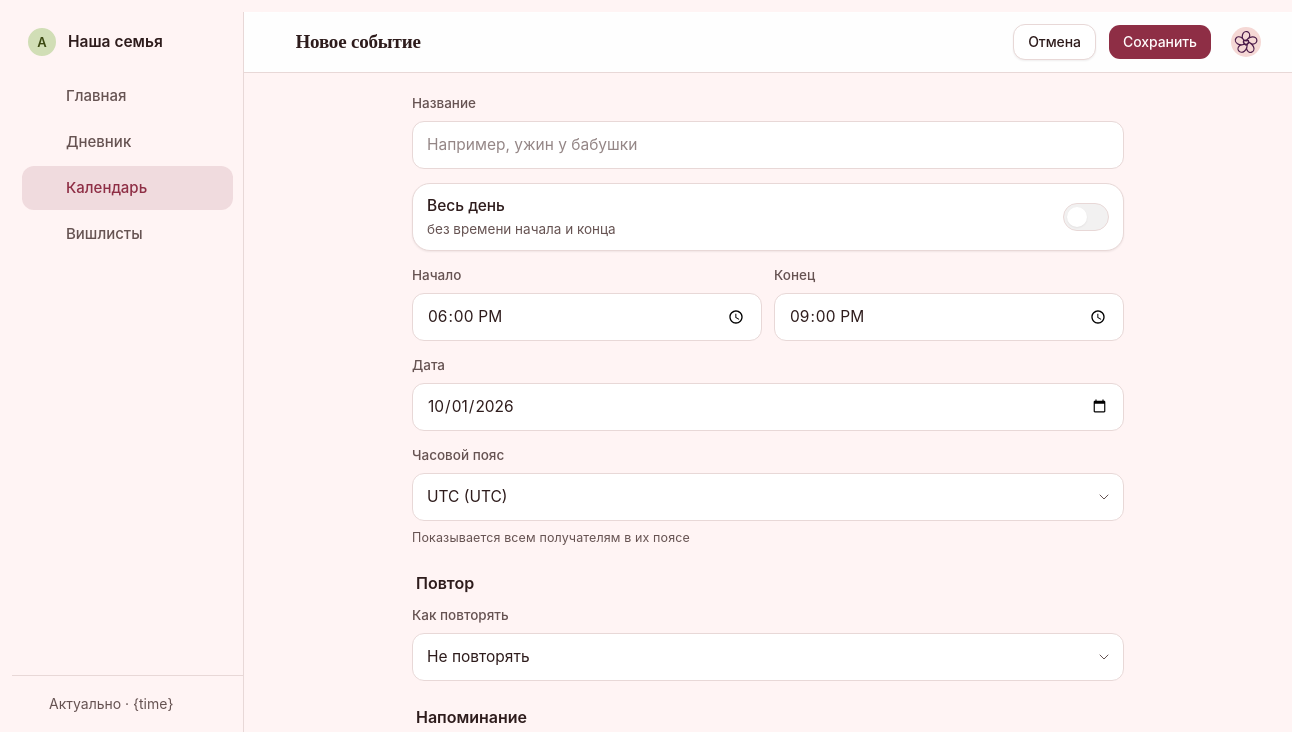
EventEditorScreen (the prototype’s editor, issue #75) › the all-day switch disables the time and zone fields in place
Expected: the time field labelled "Начало" is enabled, top-left (412, 293), bottom-right (762, 341)
Expected: the time field labelled "Конец" is enabled, top-left (774, 293), bottom-right (1124, 341)
Click the switch named "Весь день".
click(1086, 217)  # box top-left (1063, 203), bottom-right (1109, 231)
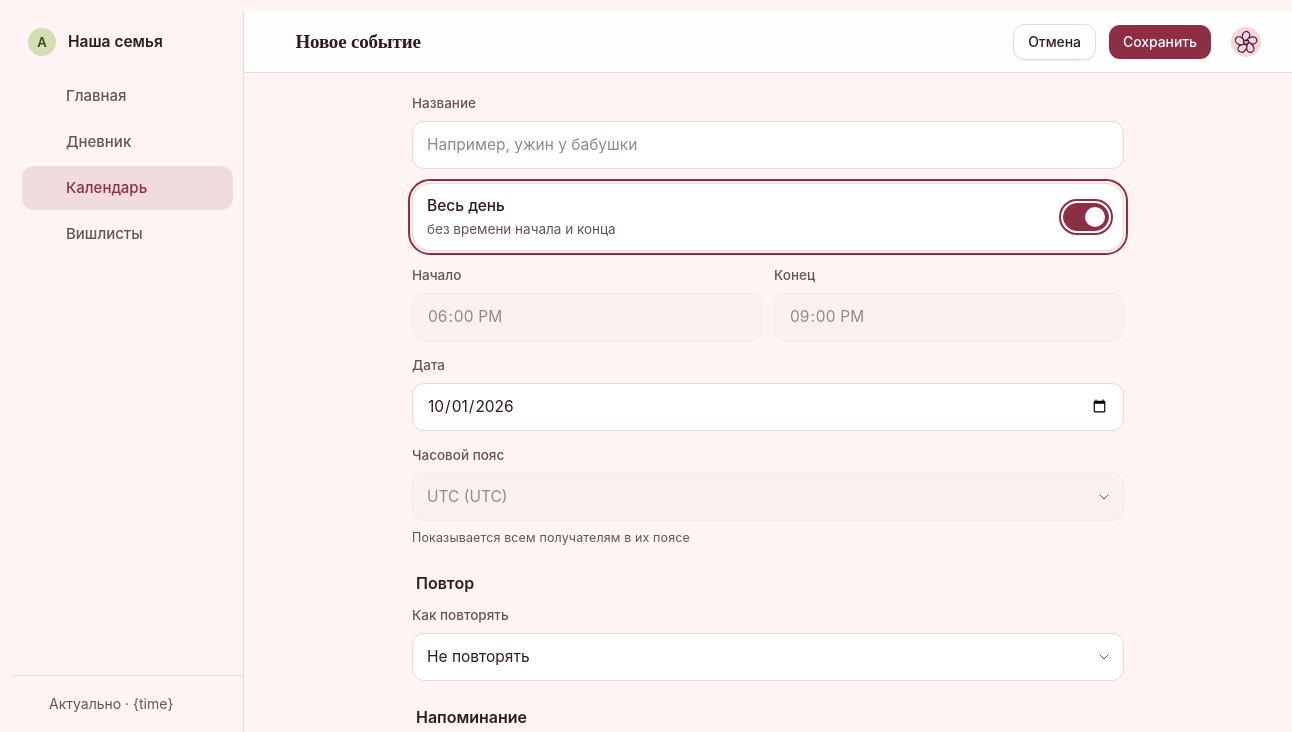
Now the time field labelled "Начало" is disabled, box top-left (412, 293), bottom-right (762, 341)
Now the time field labelled "Конец" is disabled, box top-left (774, 293), bottom-right (1124, 341)
Now the dropdown labelled "Часовой пояс" is disabled, box top-left (412, 473), bottom-right (1124, 521)
Click the switch named "Весь день".
click(1086, 217)  # box top-left (1063, 203), bottom-right (1109, 231)
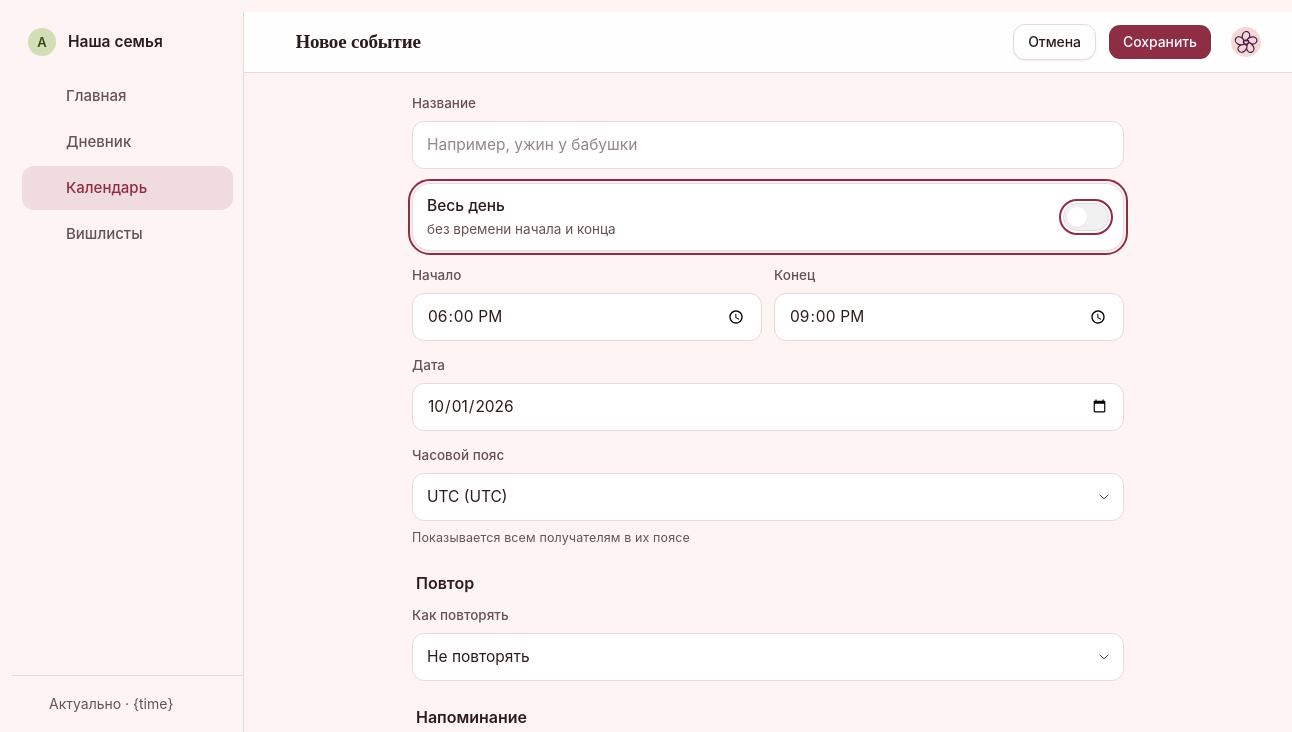
Now the time field labelled "Начало" is enabled, box top-left (412, 293), bottom-right (762, 341)
Now the time field labelled "Конец" is enabled, box top-left (774, 293), bottom-right (1124, 341)
Now the dropdown labelled "Часовой пояс" is enabled, box top-left (412, 473), bottom-right (1124, 521)
